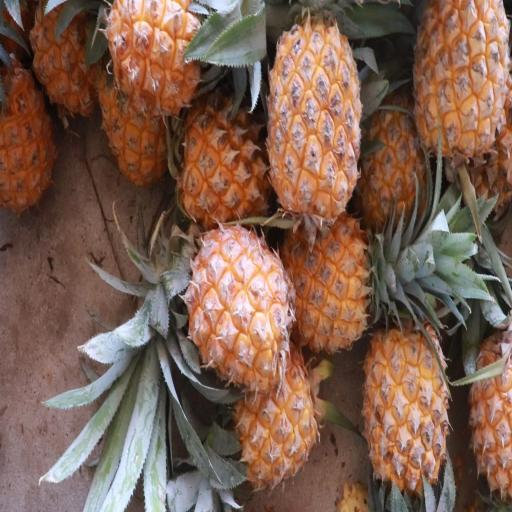Pineapple - v8 v1: (266, 0, 366, 225), (185, 220, 298, 402), (362, 286, 455, 495), (409, 1, 512, 173), (228, 326, 326, 499), (278, 197, 379, 360), (179, 90, 275, 236), (104, 2, 214, 126), (0, 45, 62, 223), (33, 2, 110, 120), (467, 300, 512, 501)
